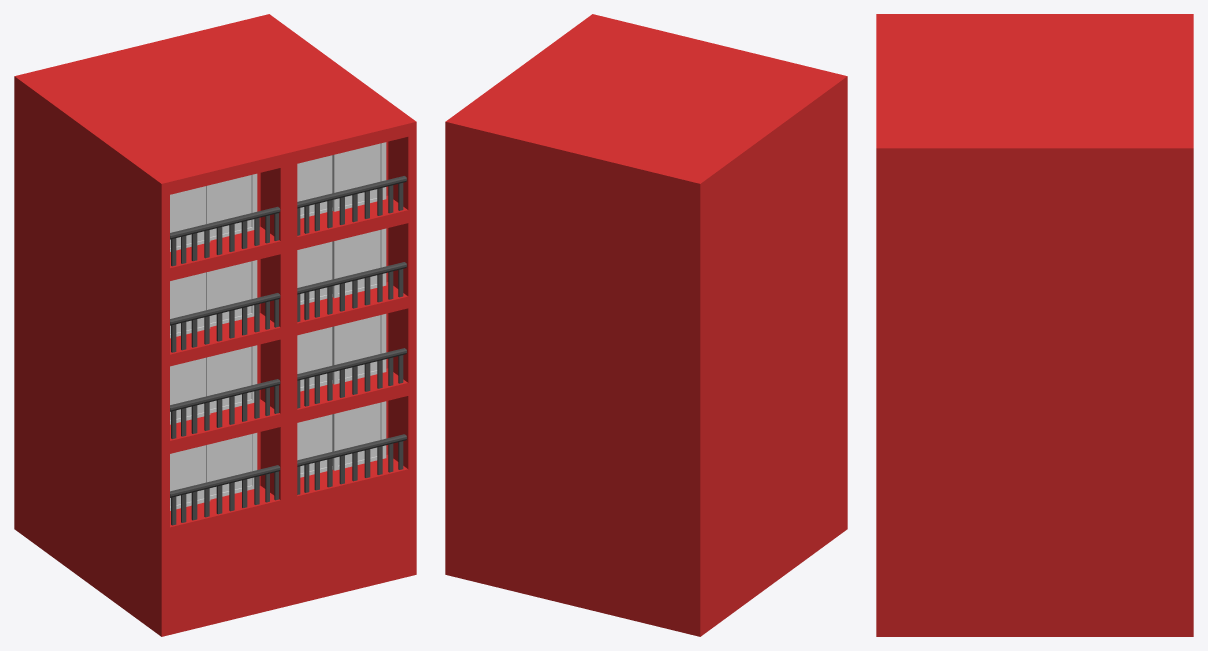
The model's file is prédioDecente.fbx.
3 views of the same model, side by side, from view 1: azimuth 30°, elevation 25°; view 2: azimuth 150°, elevation 25°; view 3: azimuth 270°, elevation 25° (orthographic). The views are drawn at different scales.
Parts seen in each view (by area): view 1: Cube, varanda; view 2: Cube; view 3: Cube.
Boxes of the visible parts, x1,y1,x2,y2 form: Cube: (14,14,416,636); varanda: (170,142,406,525); Cube: (445,14,847,636); Cube: (876,14,1193,636).
Bounding box in the file's own units: 1259 × 2137 × 1259.
